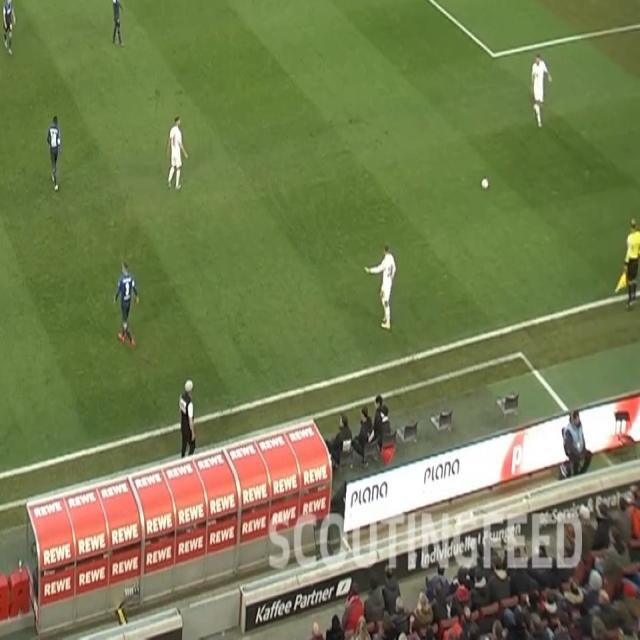ball: (481, 176, 490, 191)
